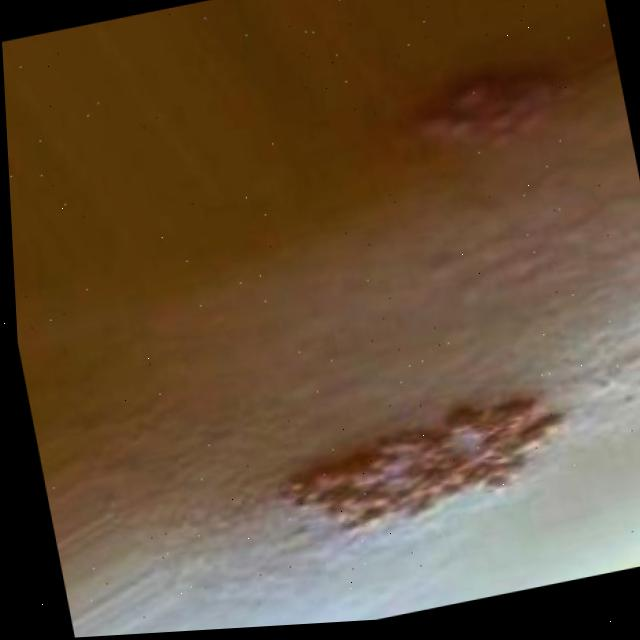Shingles: (270, 374, 583, 558), (414, 50, 567, 167)
